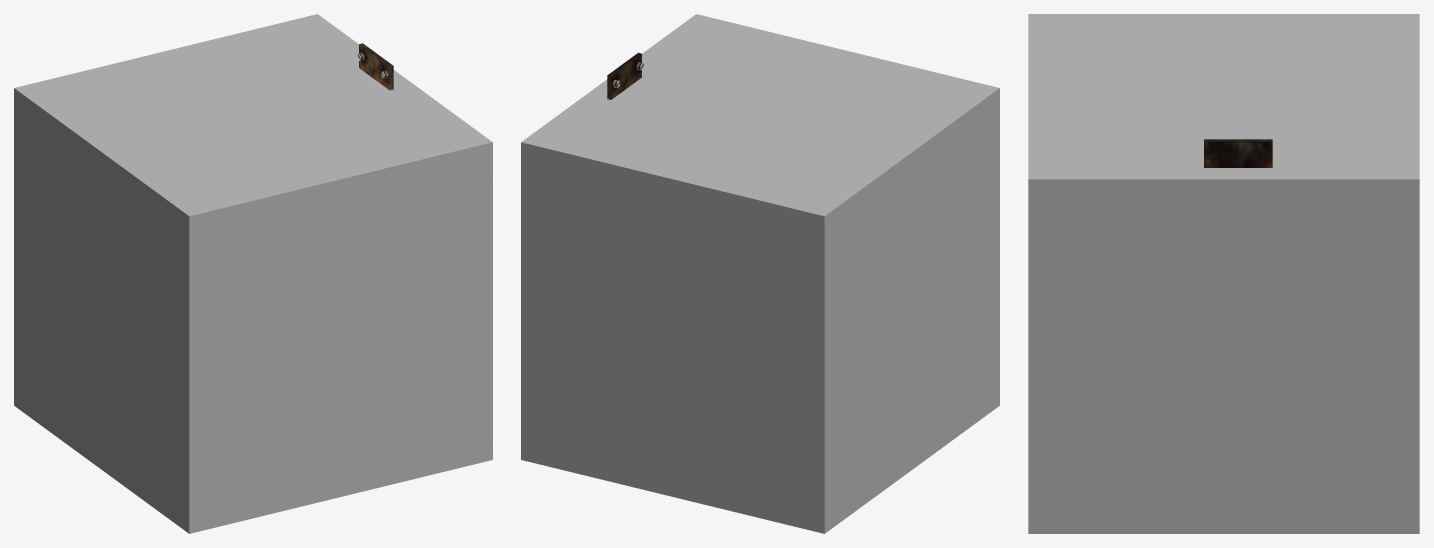
Rendered from lamp_wall_lamp.dae.
The picture shows the model from 3 angles, left to right: view 1: azimuth 30°, elevation 25°; view 2: azimuth 150°, elevation 25°; view 3: azimuth 270°, elevation 25°; orthographic projection. The views are drawn at different scales.
Visible parts, largest first — view 1: _bb_light_white_halo02_halo, holder; view 2: _bb_light_white_halo02_halo, holder; view 3: _bb_light_white_halo02_halo, holder.
Part boxes in pixels (<box>): _bb_light_white_halo02_halo: <box>14,14,492,533</box>; holder: <box>357,43,393,90</box>; _bb_light_white_halo02_halo: <box>521,14,999,533</box>; holder: <box>607,52,643,99</box>; _bb_light_white_halo02_halo: <box>1028,14,1419,533</box>; holder: <box>1204,139,1272,167</box>.
Size of what is drawn, in the model's own units: 0.5885 by 0.6327 by 0.5885.
